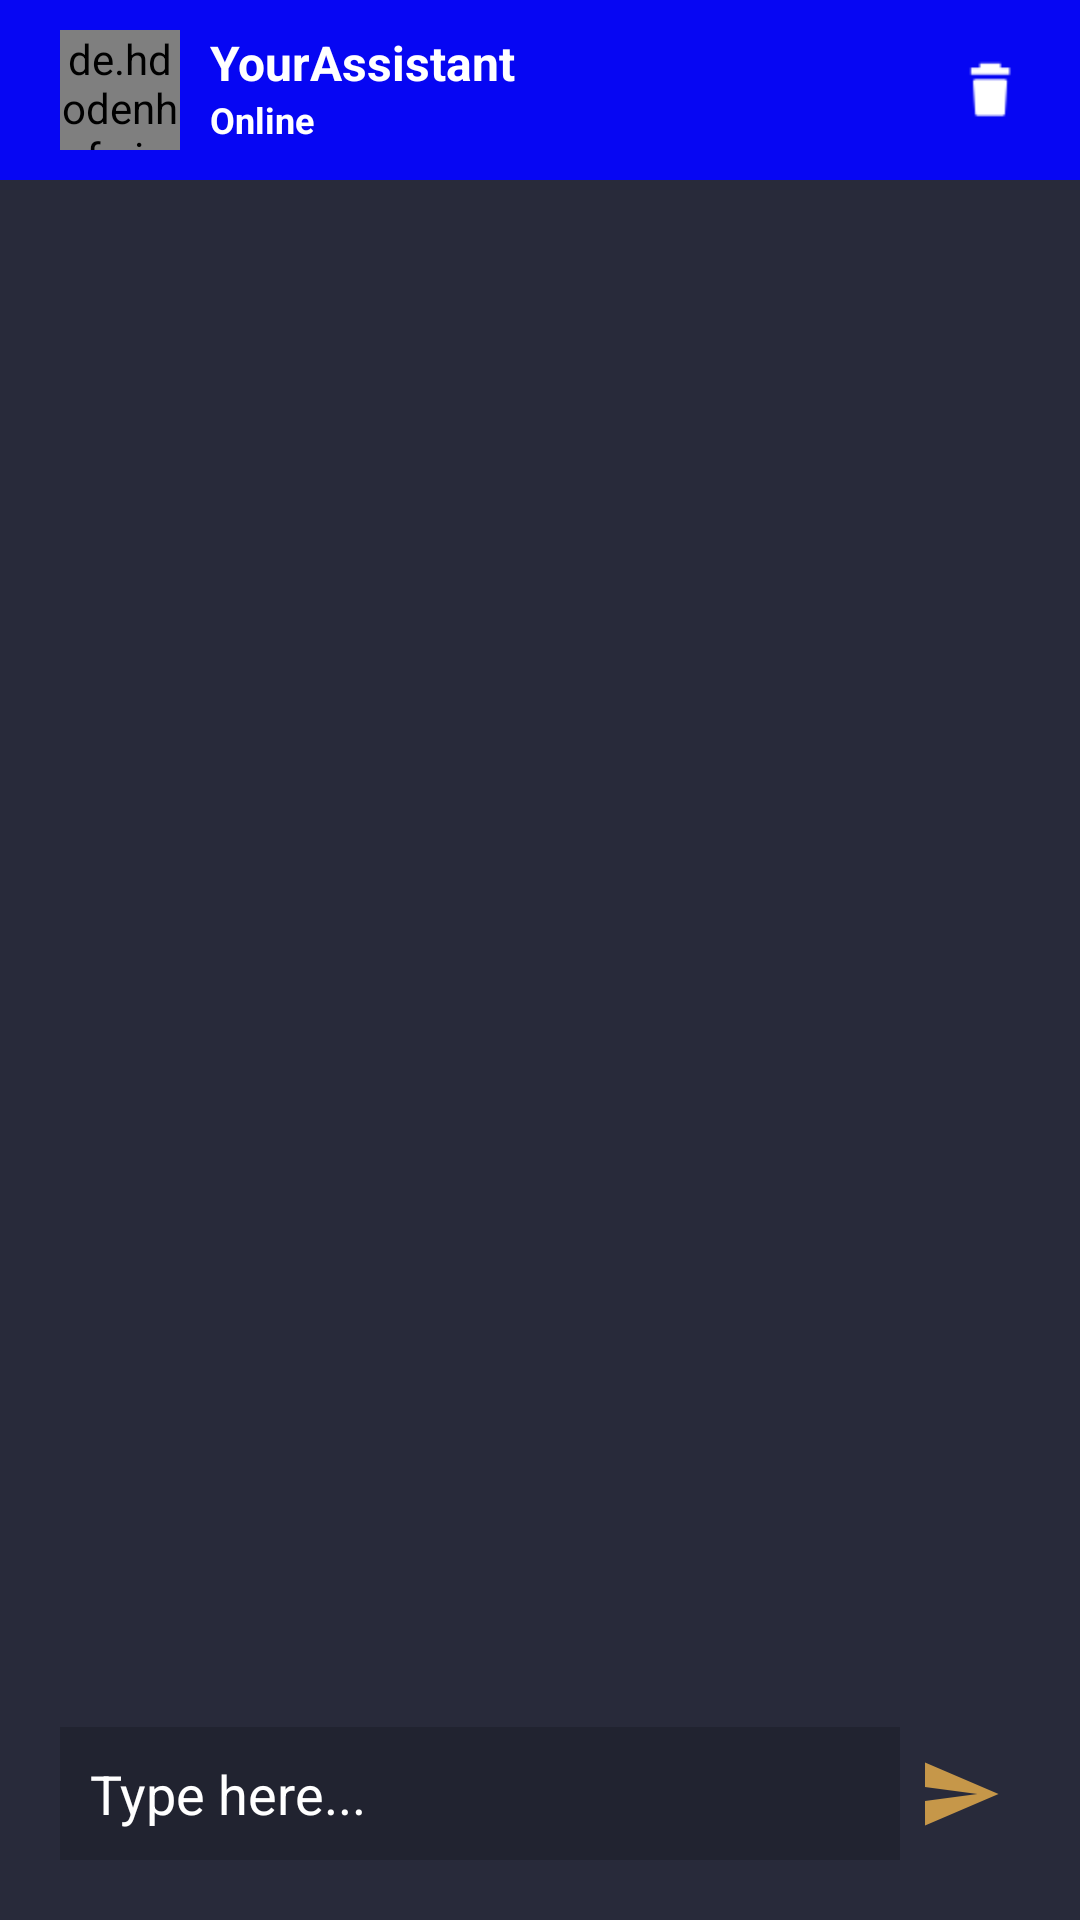

Icon click points for this 1080w x 1920h phone screenshot, format point (x, y):
deleteimg: point (990, 89)
send: point (961, 1794)
